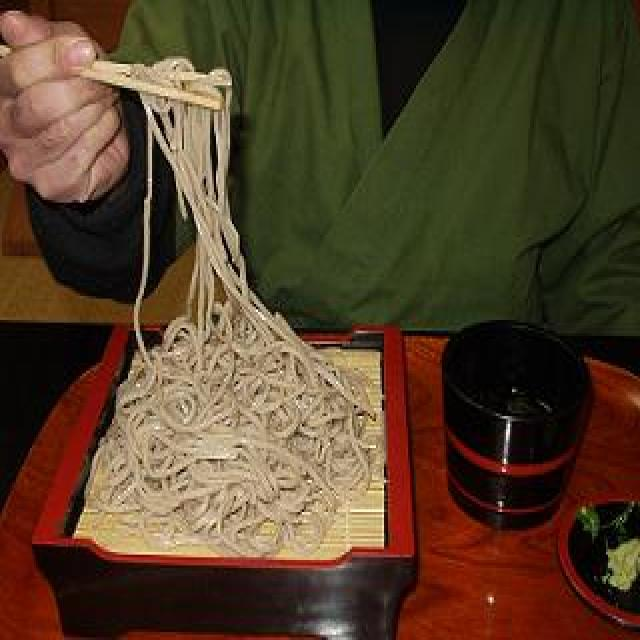面条主食: (24, 298, 432, 640)
